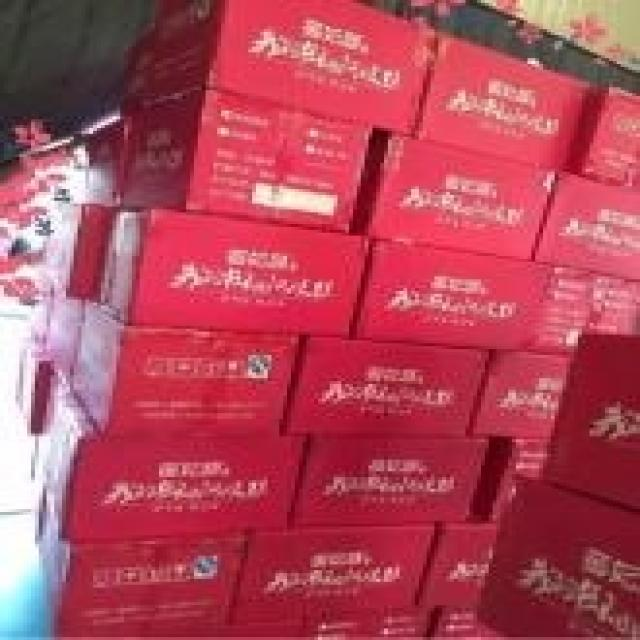box: (35, 367, 310, 541), (120, 0, 438, 140), (97, 207, 372, 340), (120, 90, 372, 233), (31, 486, 252, 640), (70, 300, 303, 439), (473, 474, 640, 640), (353, 131, 562, 259), (415, 29, 597, 175), (225, 524, 442, 640), (283, 337, 496, 439), (349, 241, 535, 355), (283, 439, 496, 535), (543, 332, 640, 515), (528, 172, 640, 282), (531, 259, 640, 358), (469, 352, 578, 439), (419, 524, 508, 614), (570, 84, 640, 192), (473, 439, 559, 524), (229, 608, 442, 640), (47, 201, 112, 303), (31, 273, 89, 384), (78, 116, 132, 209), (12, 335, 54, 436), (23, 433, 47, 547), (431, 611, 512, 640), (151, 0, 198, 29)
